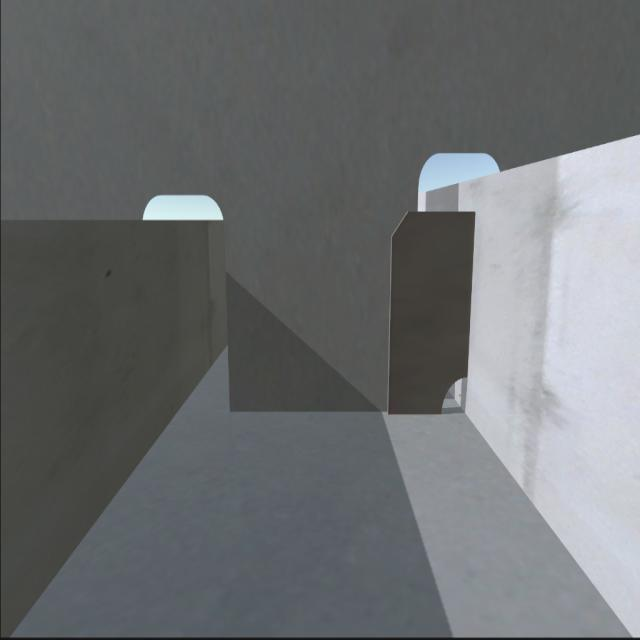fillet_hole: (439, 376, 469, 416)
fillet_yong_jeop_jang: (228, 396, 444, 424)
longi_yong_jeop_jang: (462, 208, 472, 378)
plate_CP03: (390, 204, 471, 418)
